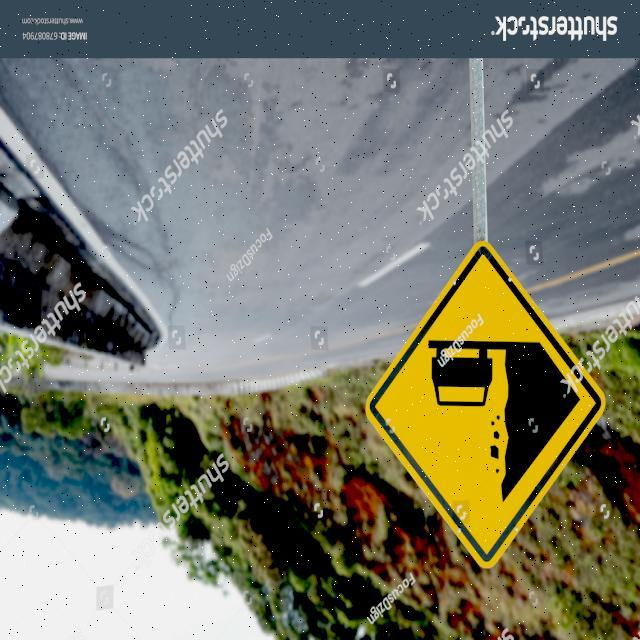Traffic sign: (361, 236, 609, 571)
